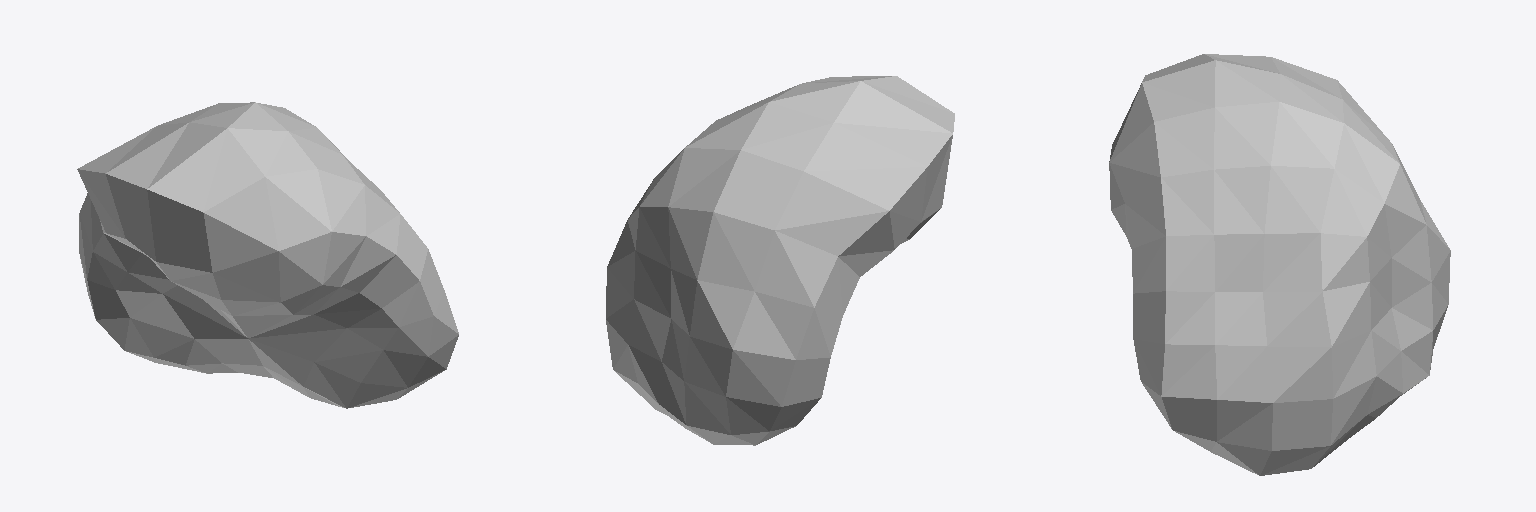
File: Asteroid4.obj
The picture shows the model from 3 angles: view 1: azimuth 30°, elevation 25°; view 2: azimuth 150°, elevation 25°; view 3: azimuth 270°, elevation 25°; orthographic projection.
Visible parts, largest first — view 1: rock.019; view 2: rock.019; view 3: rock.019.
Boxes of the visible parts, x1=… form: rock.019: x1=77, y1=102, x2=458, y2=408; rock.019: x1=606, y1=76, x2=954, y2=445; rock.019: x1=1109, y1=54, x2=1450, y2=475.
Bounding box in the file's own units: 1.02 × 1.05 × 0.9743.